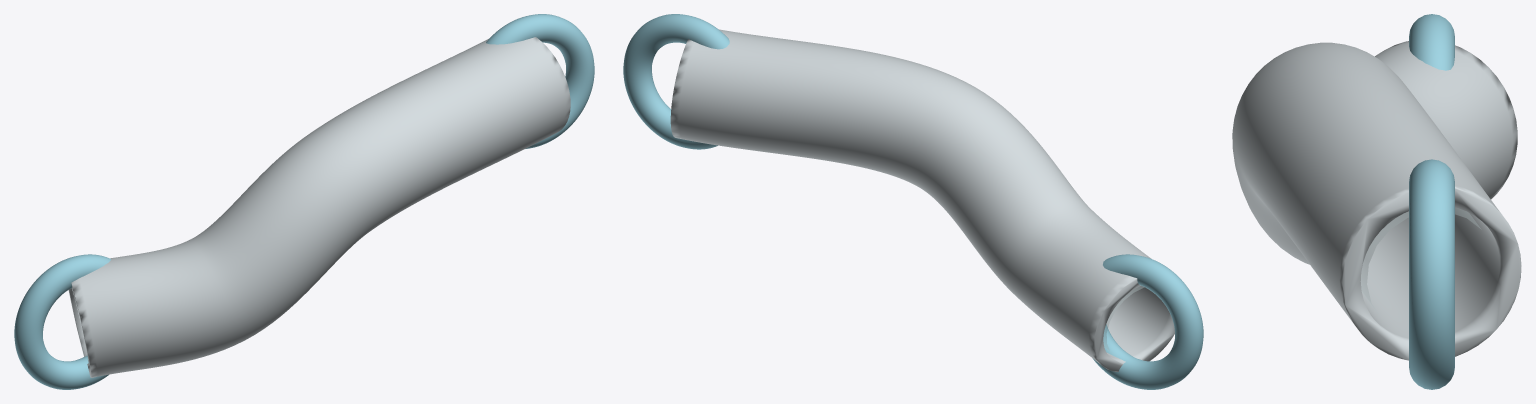
3 views of the same model, side by side, from view 1: azimuth 30°, elevation 25°; view 2: azimuth 150°, elevation 25°; view 3: azimuth 270°, elevation 25° (orthographic). The views are drawn at different scales.
Parts seen in each view (by area): view 1: channel-wall, socket-0, socket-1; view 2: channel-wall, socket-0, socket-1; view 3: channel-wall, socket-1, socket-0, channel-fluid.
Boxes of the visible parts, x1,y1,x2,y2 form: channel-wall: (68,37,570,377); socket-0: (14,254,110,389); socket-1: (486,14,594,148); channel-wall: (670,29,1174,371); socket-0: (1092,254,1203,389); socket-1: (623,14,729,149); channel-wall: (1232,41,1521,360); socket-1: (1409,159,1454,389); socket-0: (1409,14,1454,70); channel-fluid: (1361,208,1480,314).
Bounding box in the file's own units: 2.55 × 1.1 × 0.6893.
